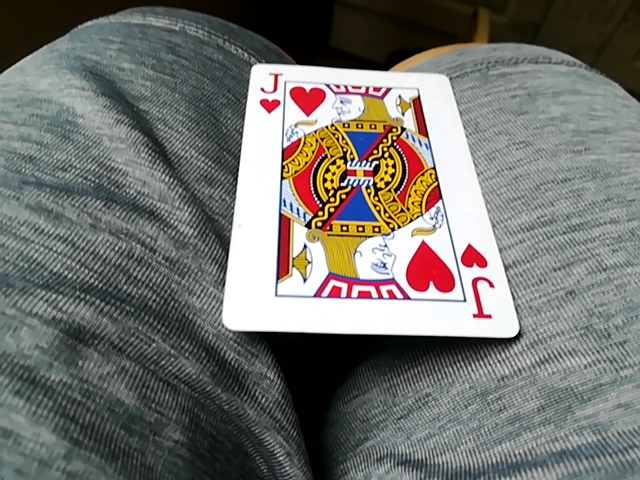hx j: (228, 62, 520, 344)
